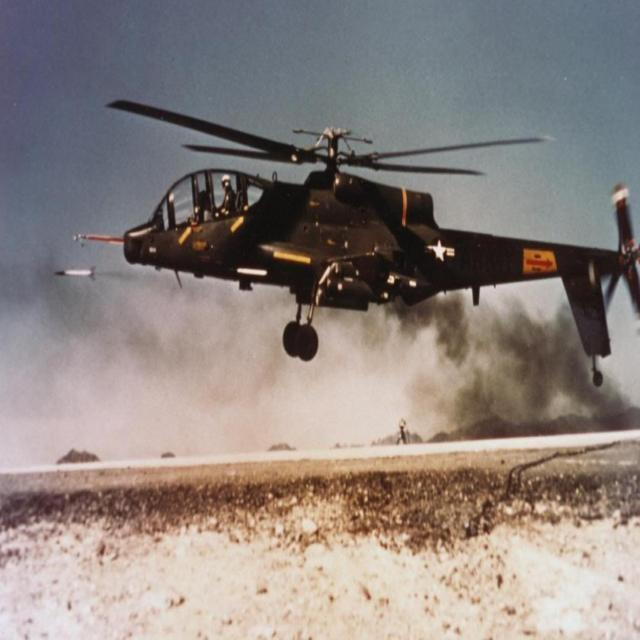MIL_HELO: (73, 80, 640, 410)
